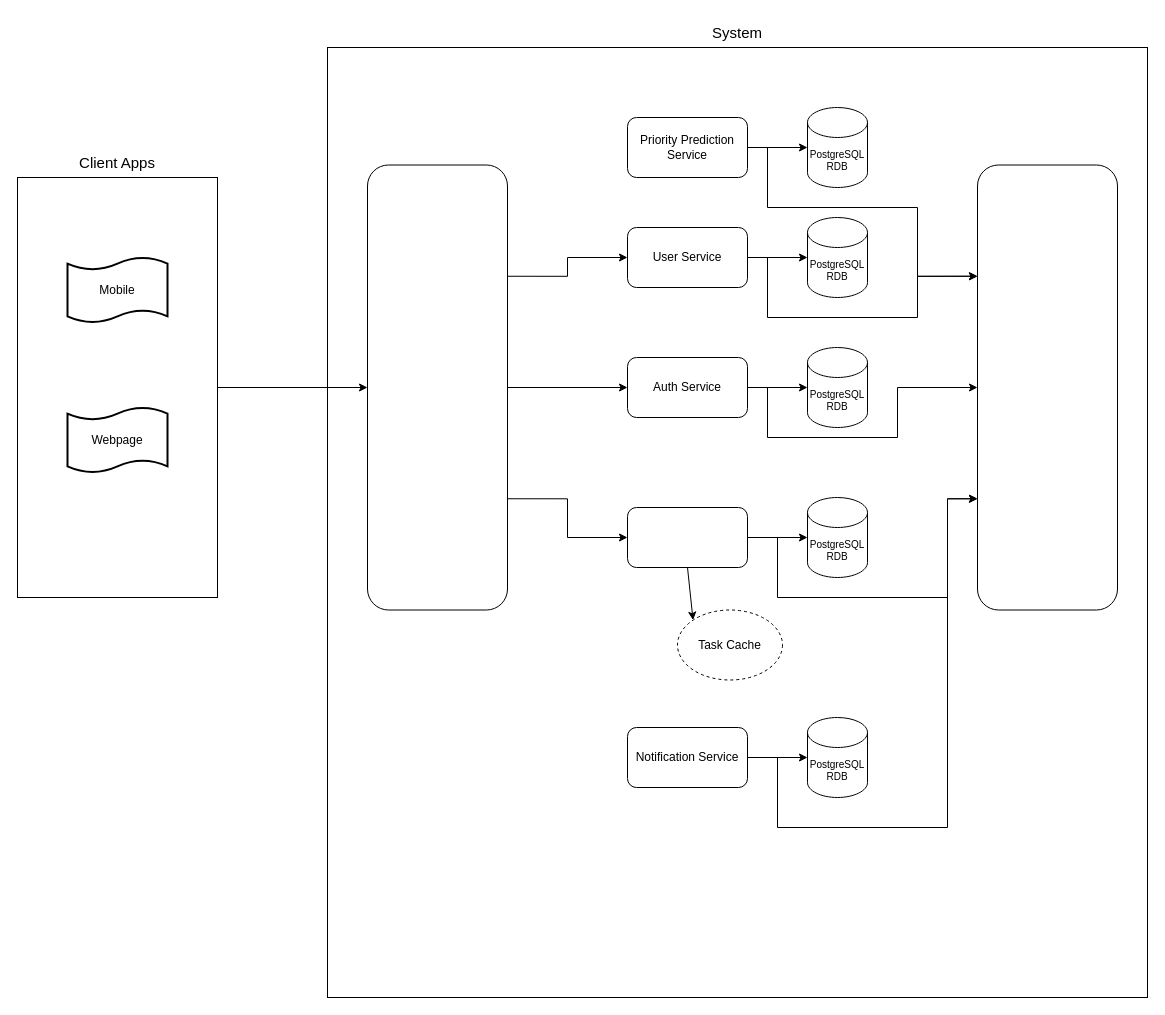
Image size: 1165x1015. Some labels were removed from this diagram. Here are the shapes that lost their labels. From the top down, the centre of each, then its label:
At point 437,387: "API Gateway".
At point 1047,387: "Message Queue".
At point 687,537: "Project Service".
